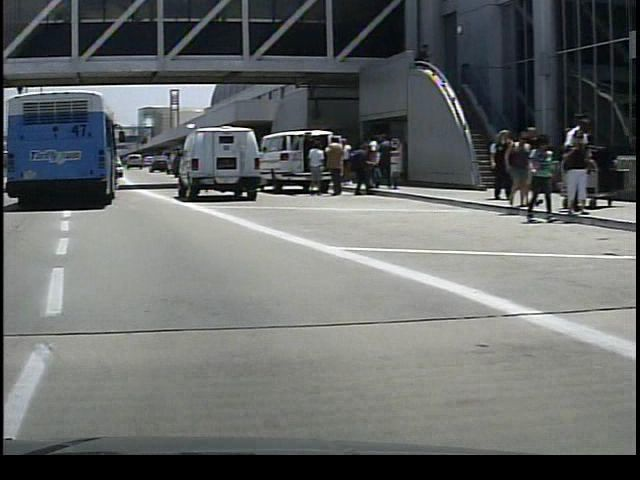person: (556, 118, 590, 218), (561, 127, 596, 218), (320, 136, 344, 198), (300, 134, 322, 195), (368, 132, 391, 189)
